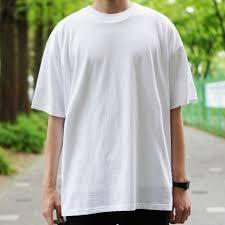Tshirt: (30, 3, 199, 217)
